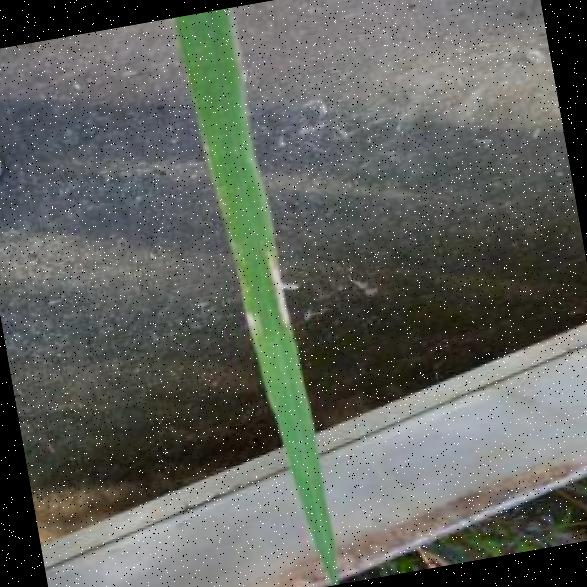Bacteria_Leaf_Blight: (172, 4, 342, 556)
